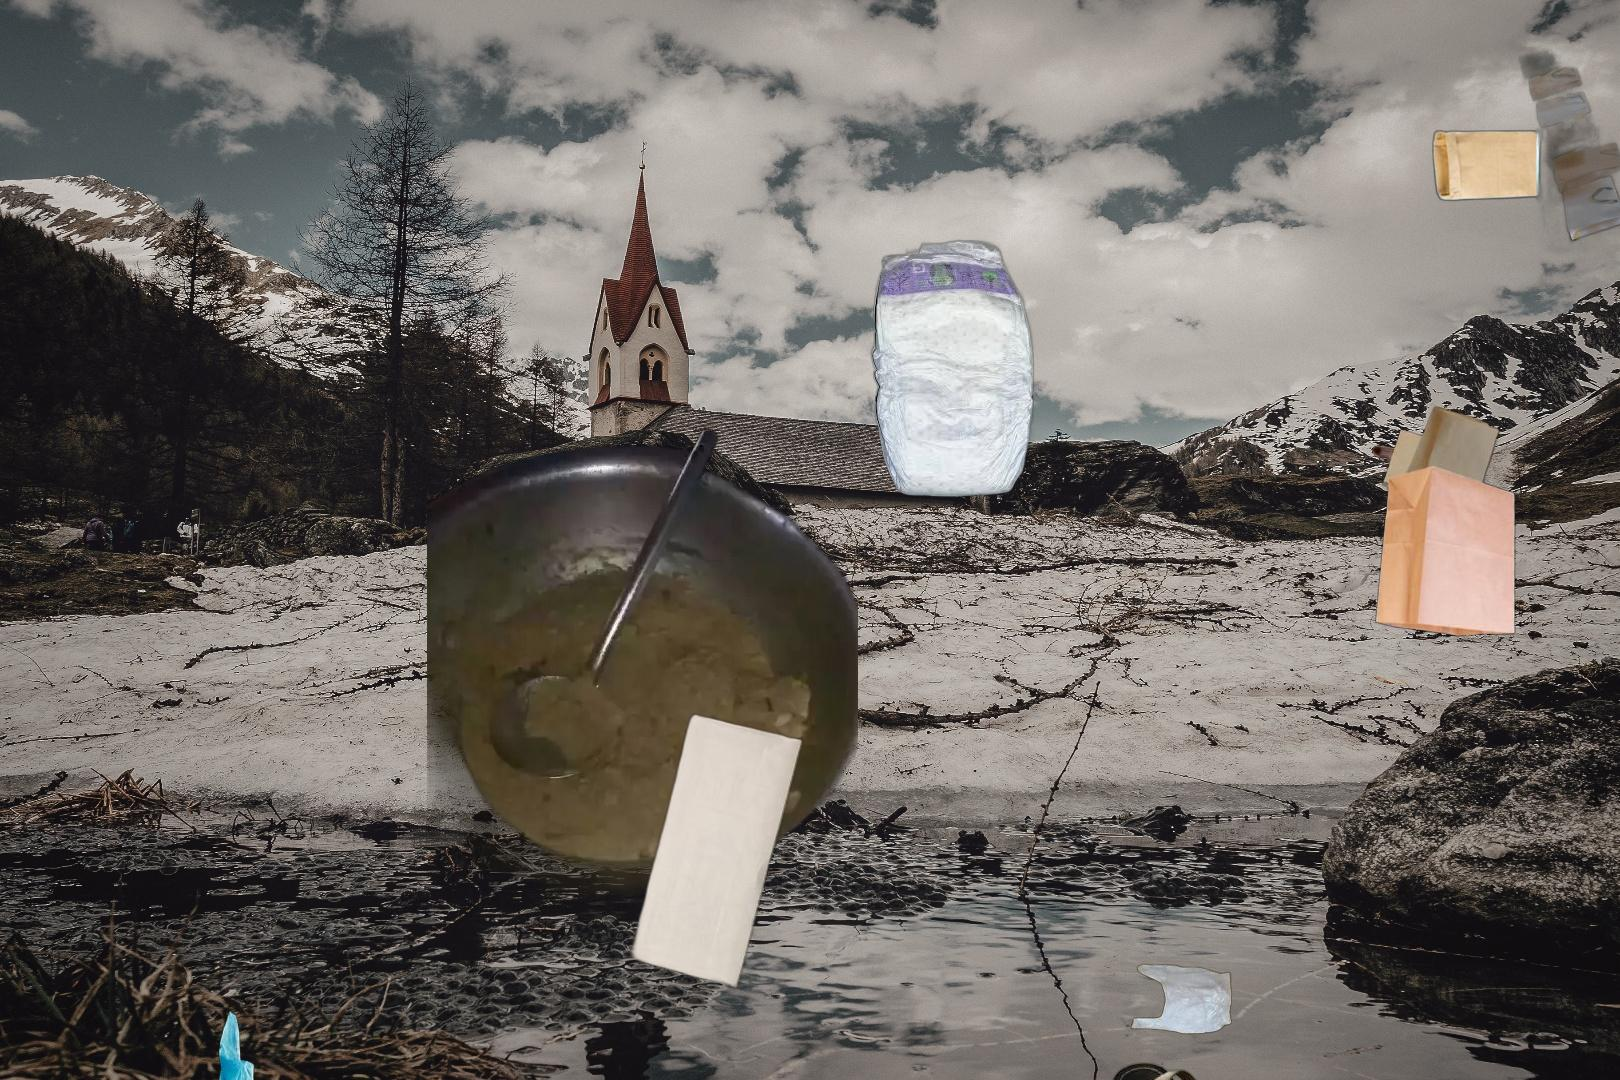biological: (427, 415, 858, 947)
paper: (623, 712, 808, 992)
paper-bag: (1415, 46, 1620, 260), (1369, 403, 1518, 636)
plastic-bag: (1128, 961, 1233, 1037), (216, 1006, 258, 1080)
shoes: (969, 1058, 1235, 1080)
trash: (865, 237, 1035, 500)
